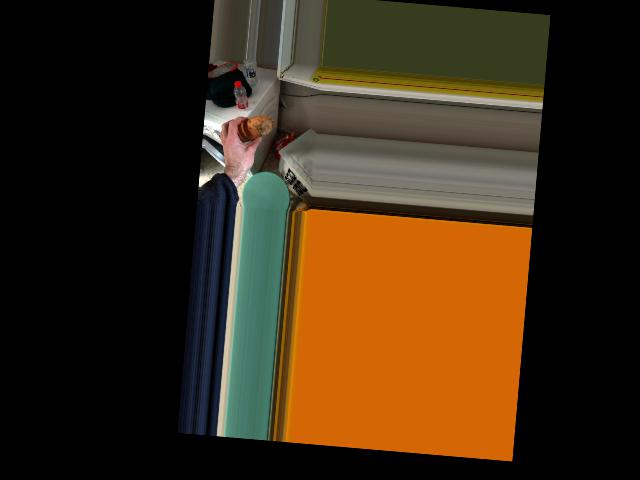sweet_potato: (237, 113, 267, 143)
